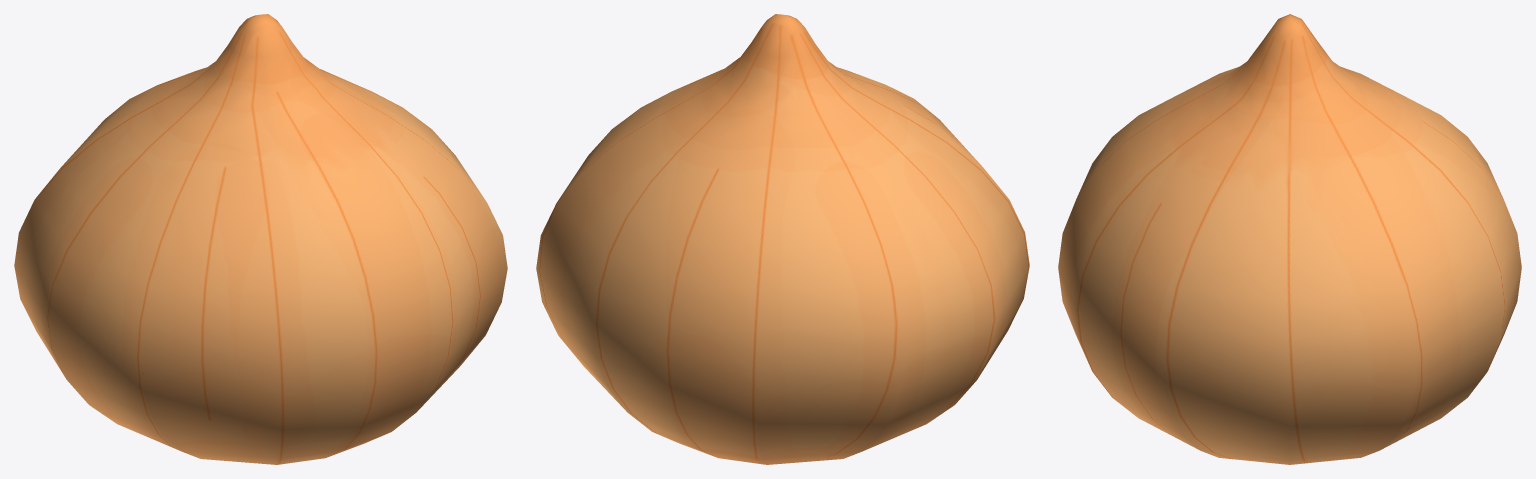
File: Onion.fbx
The picture shows the model from 3 angles, left to right: view 1: azimuth 30°, elevation 25°; view 2: azimuth 150°, elevation 25°; view 3: azimuth 270°, elevation 25°; orthographic projection.
Parts seen in each view (by area): view 1: onion; view 2: onion; view 3: onion.
Part boxes in pixels (x1,y1,x2,y2): onion: (14,14,507,464); onion: (536,14,1029,464); onion: (1058,14,1521,464).
Size of the model in its own units: 37.29 by 34.76 by 35.18.
